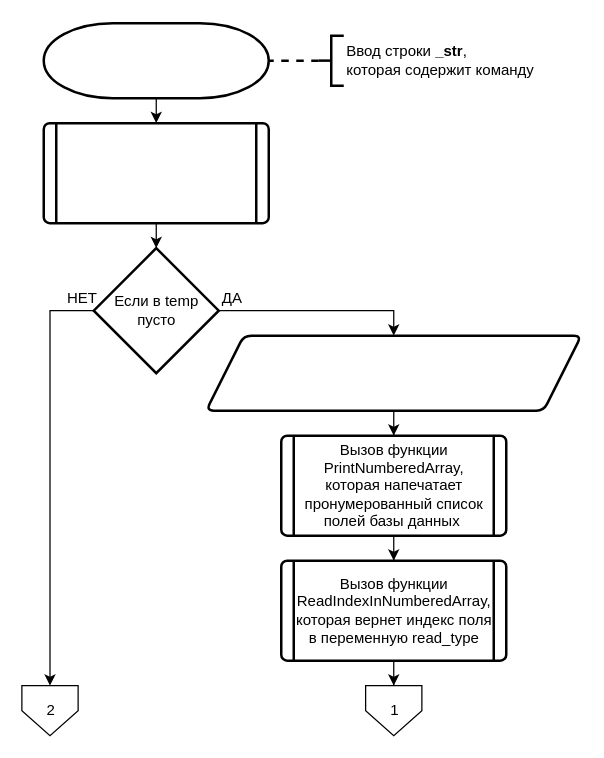
The diagram is 604 pixels wide and 758 high, and some of its shapes have lost their labels. The centre of each missing label's shape, as x and y in pixels:
"Выберите способ ввода информации" goes at point (393, 372).
"Вызов функции GetToken(_str), которая вернет в temp ключ (если он есть)" goes at point (155, 172).
"Начало CheckCMDReadDB" goes at point (155, 60).
